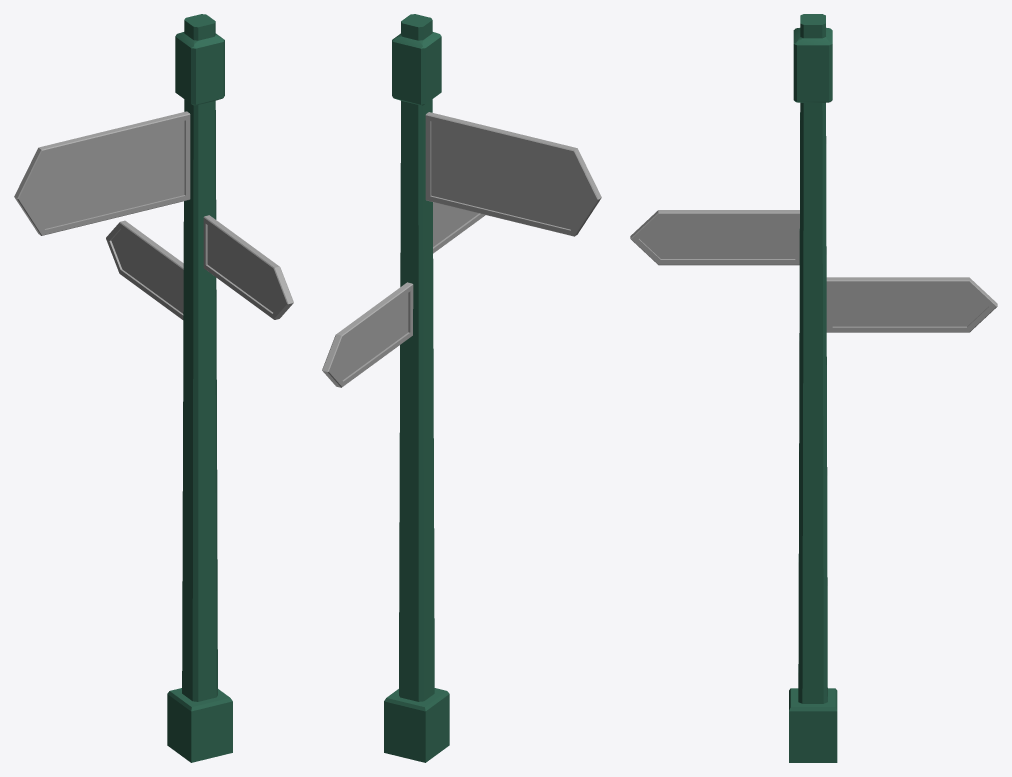
File: streetsign_a001.glb
3 renders of one model, left to right at view 1: azimuth 30°, elevation 25°; view 2: azimuth 150°, elevation 25°; view 3: azimuth 270°, elevation 25°, orthographic.
Visible parts, largest first — view 1: streetsign_a001; view 2: streetsign_a001; view 3: streetsign_a001.
Boxes of the visible parts, x1,y1,x2,y2 form: streetsign_a001: (14,14,293,762); streetsign_a001: (322,14,601,762); streetsign_a001: (630,14,997,762).
Bounding box in the file's own units: 0.5649 × 1.92 × 0.8721.
Materials: 1 (1 with a texture image).
